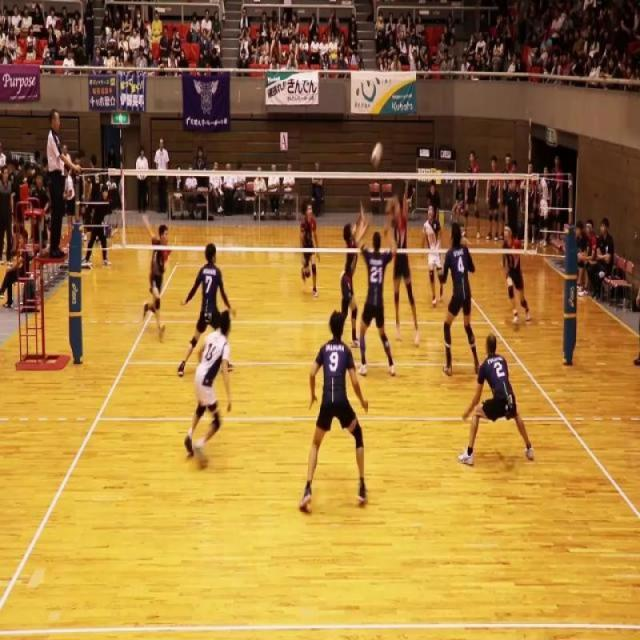volleyball: (370, 140, 384, 170)
